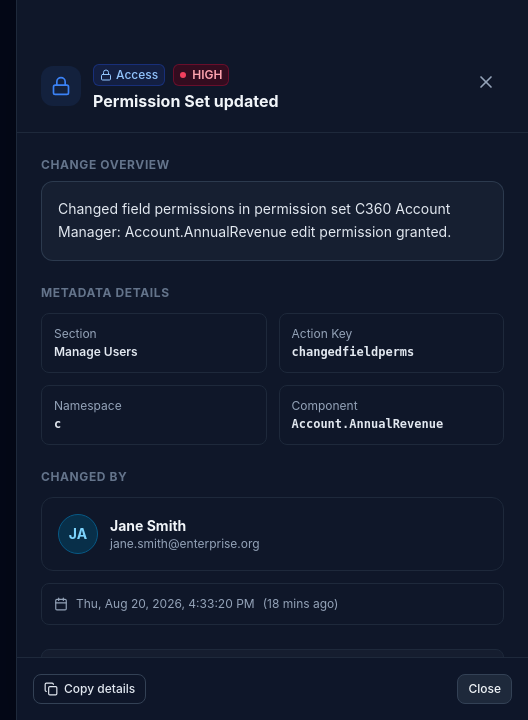
Test: EventDetailDrawer Component › copies event details when copy button clicked
The width and height of the screenshot is (528, 720).
Click the button "Copy details": (90, 689) [33,674,146,704]
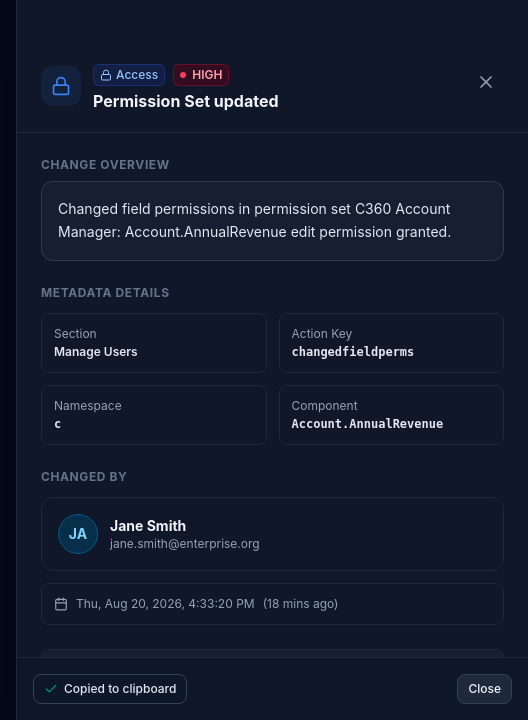
expect the text "Copied to clipboard" is shown: met, box [64,681,176,697]
